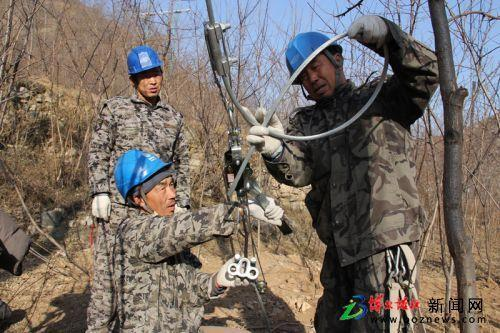helmet: (275, 22, 357, 106), (112, 142, 184, 214), (123, 42, 165, 101)
